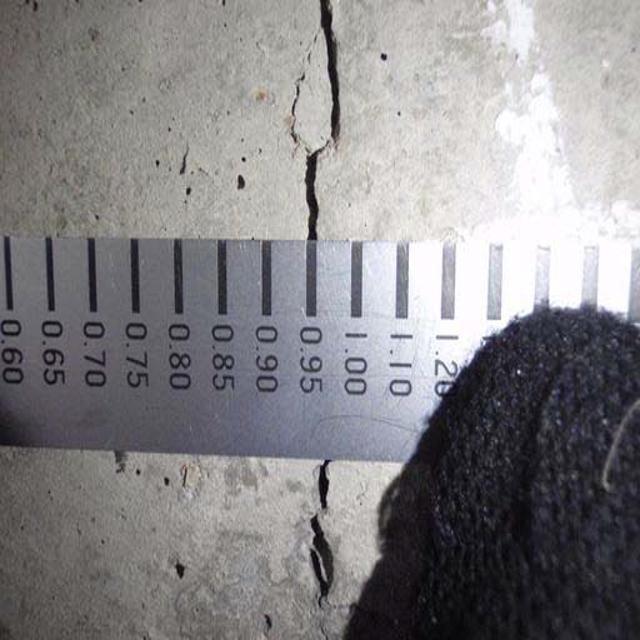crack: (283, 7, 351, 243), (290, 468, 353, 632)
